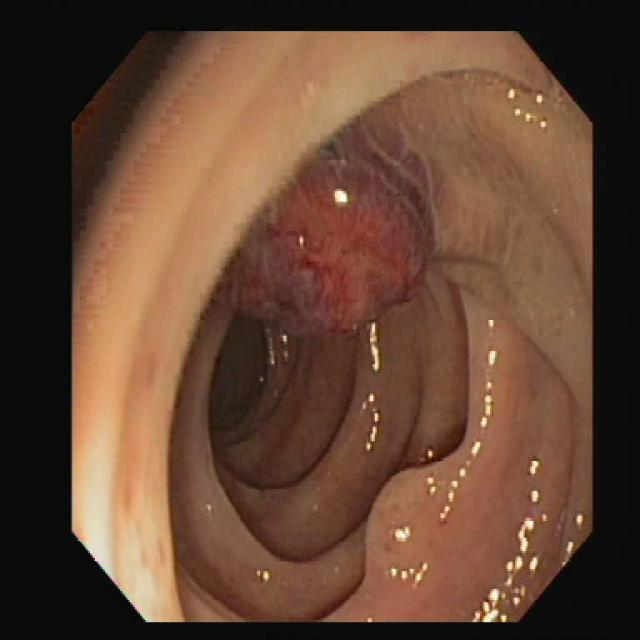tumor: (225, 98, 432, 331), (360, 469, 440, 564)
